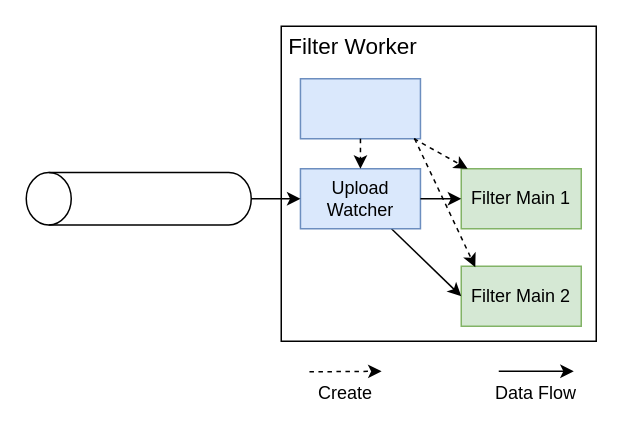
This 623x443 diagram has some shape labels left out. The box of each missing label's shape, as (x1, y1, x2, y2) in pixels:
Main: (299, 77, 420, 139)
Upload Notifications: (25, 171, 251, 225)
